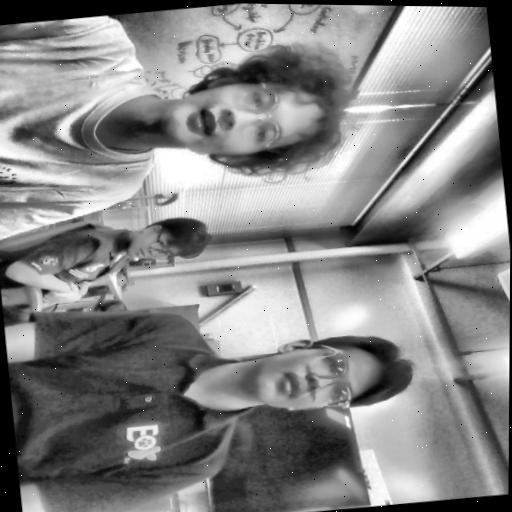Daifuku: (158, 38, 368, 193)
Not Daifuku: (251, 330, 415, 423), (122, 210, 224, 269)
